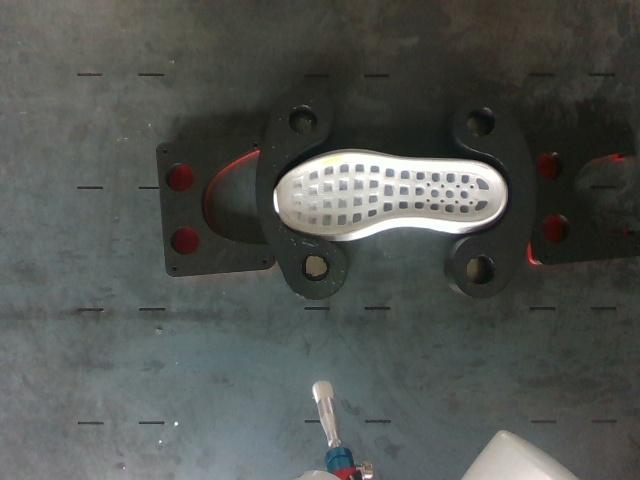shoes: (275, 152, 505, 234)
